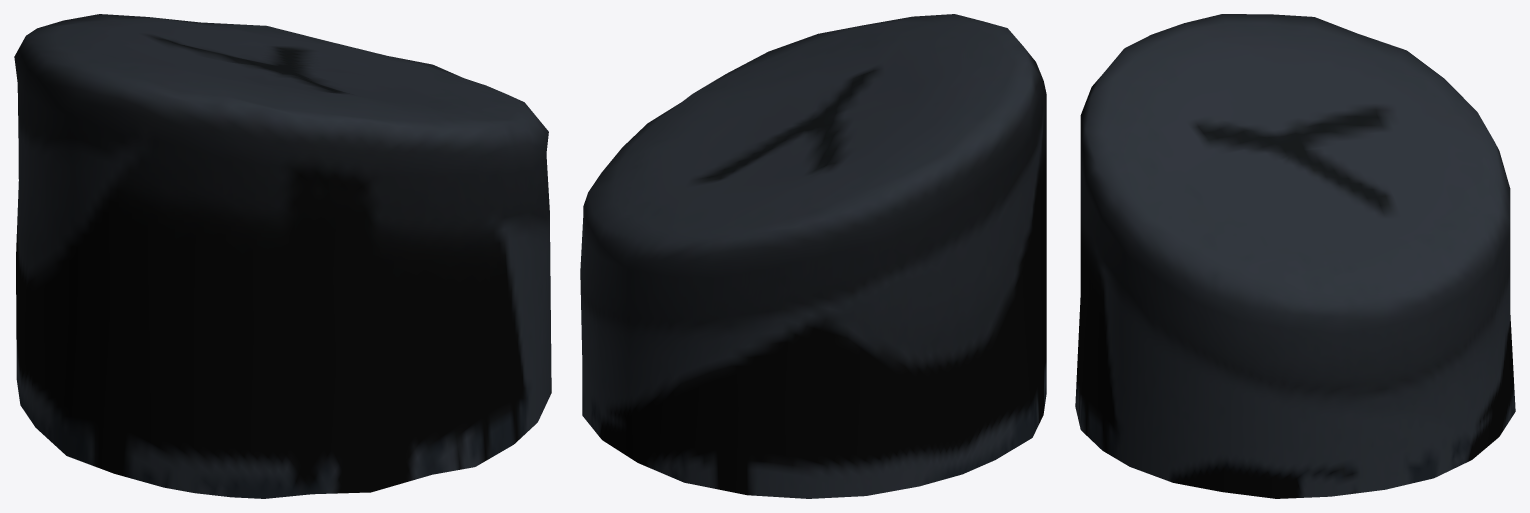
File: left_y_button.obj
3 renders of one model, left to right at view 1: azimuth 30°, elevation 25°; view 2: azimuth 150°, elevation 25°; view 3: azimuth 270°, elevation 25°, orthographic. The views are drawn at different scales.
Parts seen in each view (by area): view 1: left_y_button; view 2: left_y_button; view 3: left_y_button.
Boxes of the visible parts, x1,y1,x2,y2 form: left_y_button: (14,14,551,498); left_y_button: (580,14,1046,498); left_y_button: (1075,14,1515,498).
Size of the model in its own units: 0.0081 by 0.0063 by 0.0081.
1 material, 1 textured.
